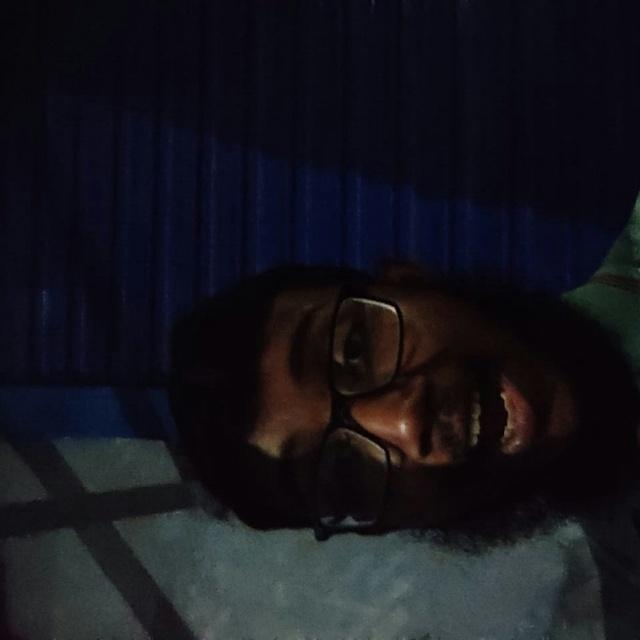surprised: (105, 139, 557, 569)
